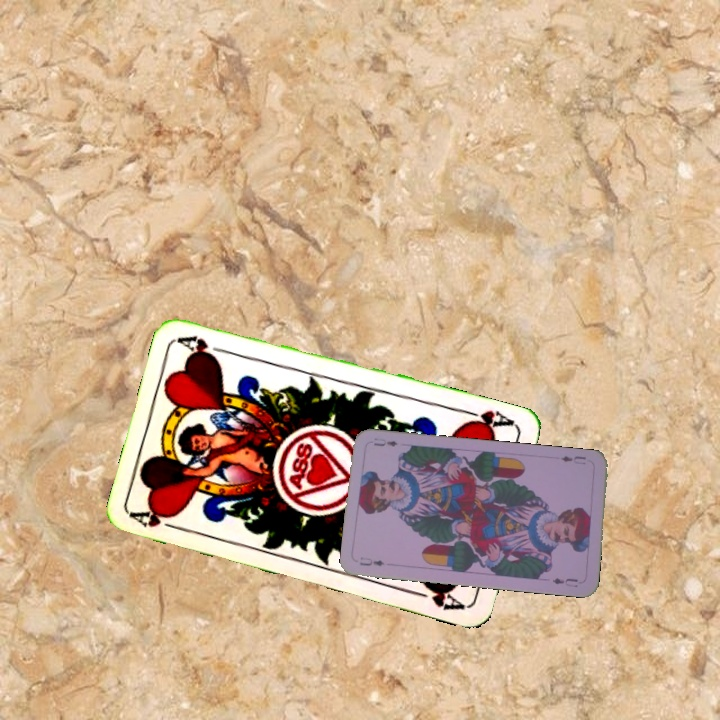EU: (355, 553, 387, 569), (557, 452, 588, 467)
HA: (129, 505, 187, 535), (459, 405, 517, 434)
